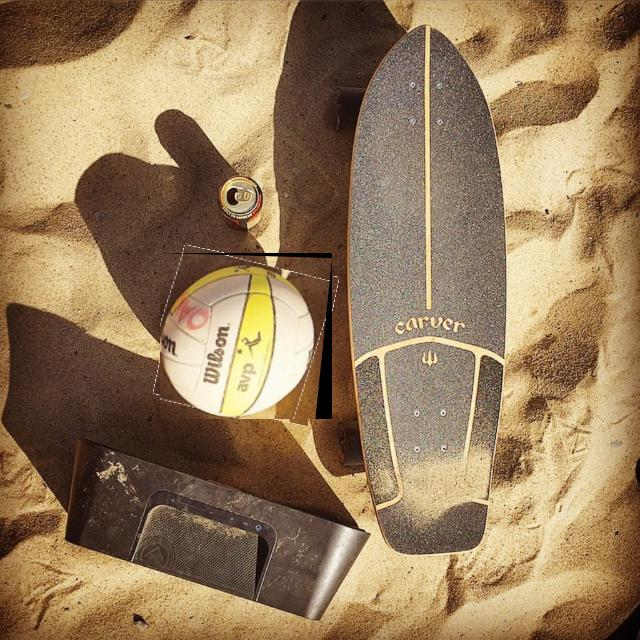Football: (160, 253, 332, 419)
